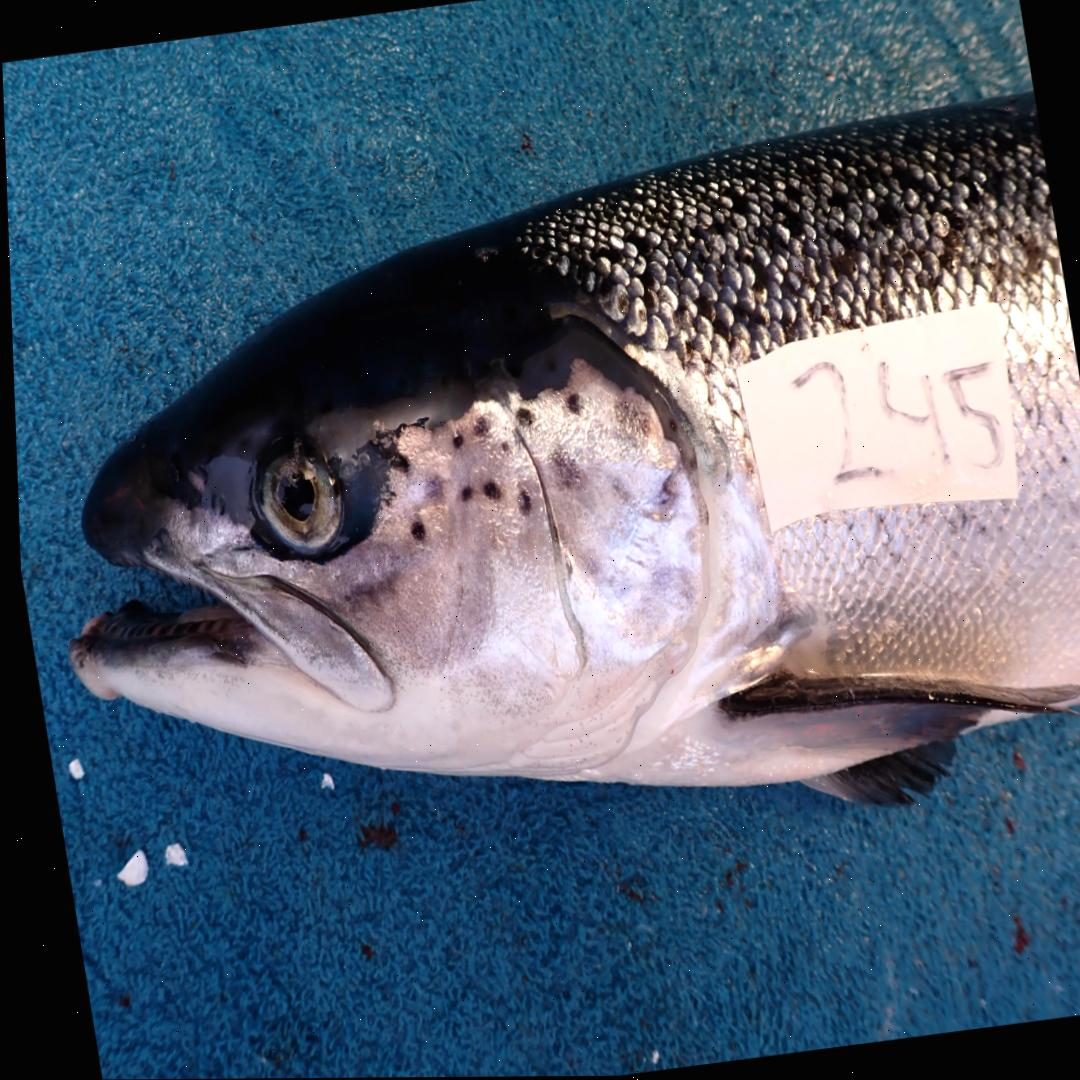spot: (366, 430, 404, 471), (612, 404, 644, 438), (549, 452, 576, 488), (653, 476, 669, 505), (405, 520, 422, 541), (421, 478, 438, 499), (562, 392, 578, 414), (479, 481, 496, 501), (513, 407, 529, 426), (455, 484, 471, 502), (471, 415, 484, 436), (516, 491, 527, 513), (449, 434, 461, 447), (497, 442, 506, 453)
